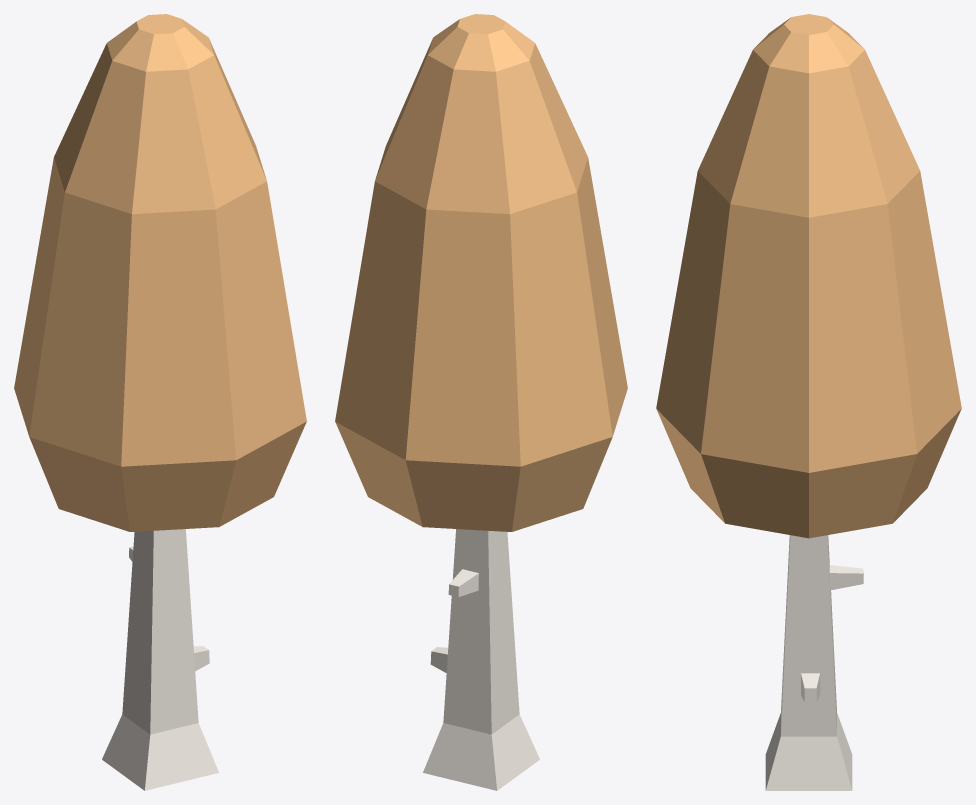
Rendered from tree_cone_fall.glb.
3 views of the same model, side by side, from view 1: azimuth 30°, elevation 25°; view 2: azimuth 150°, elevation 25°; view 3: azimuth 270°, elevation 25° (orthographic).
Parts seen in each view (by area): view 1: tree_cone_fall; view 2: tree_cone_fall; view 3: tree_cone_fall.
Boxes of the visible parts, x1=… form: tree_cone_fall: x1=14, y1=14, x2=306, y2=790; tree_cone_fall: x1=335, y1=14, x2=627, y2=790; tree_cone_fall: x1=656, y1=14, x2=961, y2=790.
Size of the model in its own units: 0.6356 by 1.72 by 0.6356.
